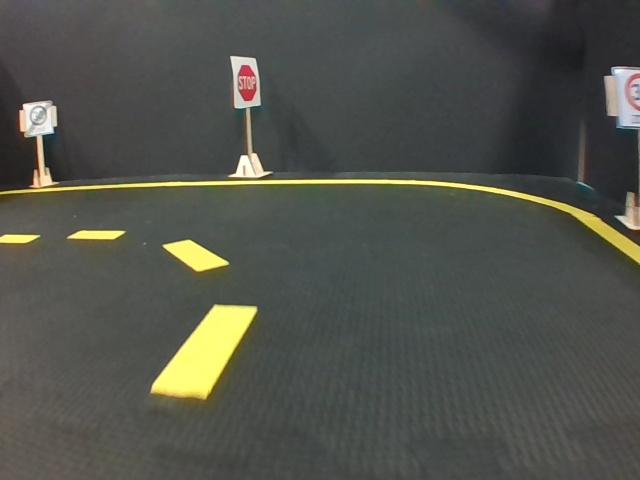30: (620, 68, 640, 126)
no30: (24, 102, 51, 133)
stop: (231, 56, 260, 107)
